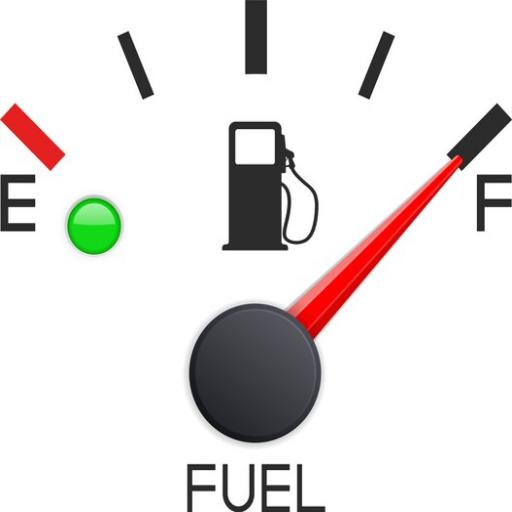empty: (0, 171, 39, 237)
fuel_icon: (222, 119, 320, 254)
full: (471, 170, 512, 234)
guage_area: (0, 1, 512, 444)
needle_center: (187, 296, 325, 445)
needle_tip: (427, 154, 466, 184)
